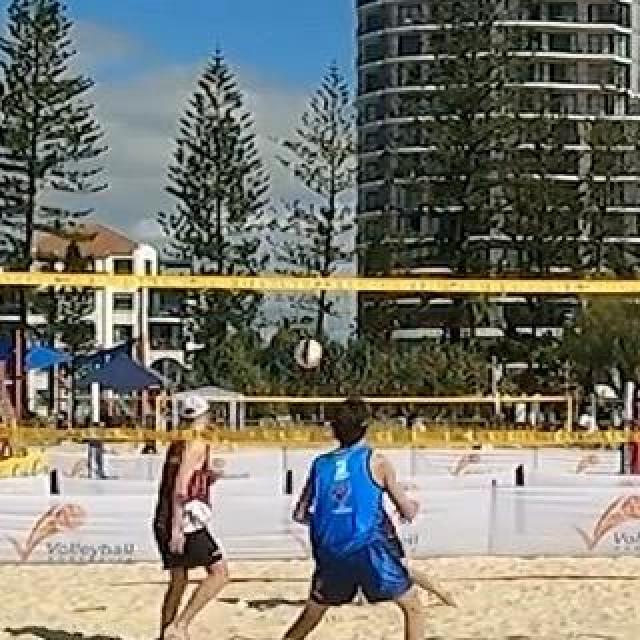volleyball: (297, 339, 323, 369)
